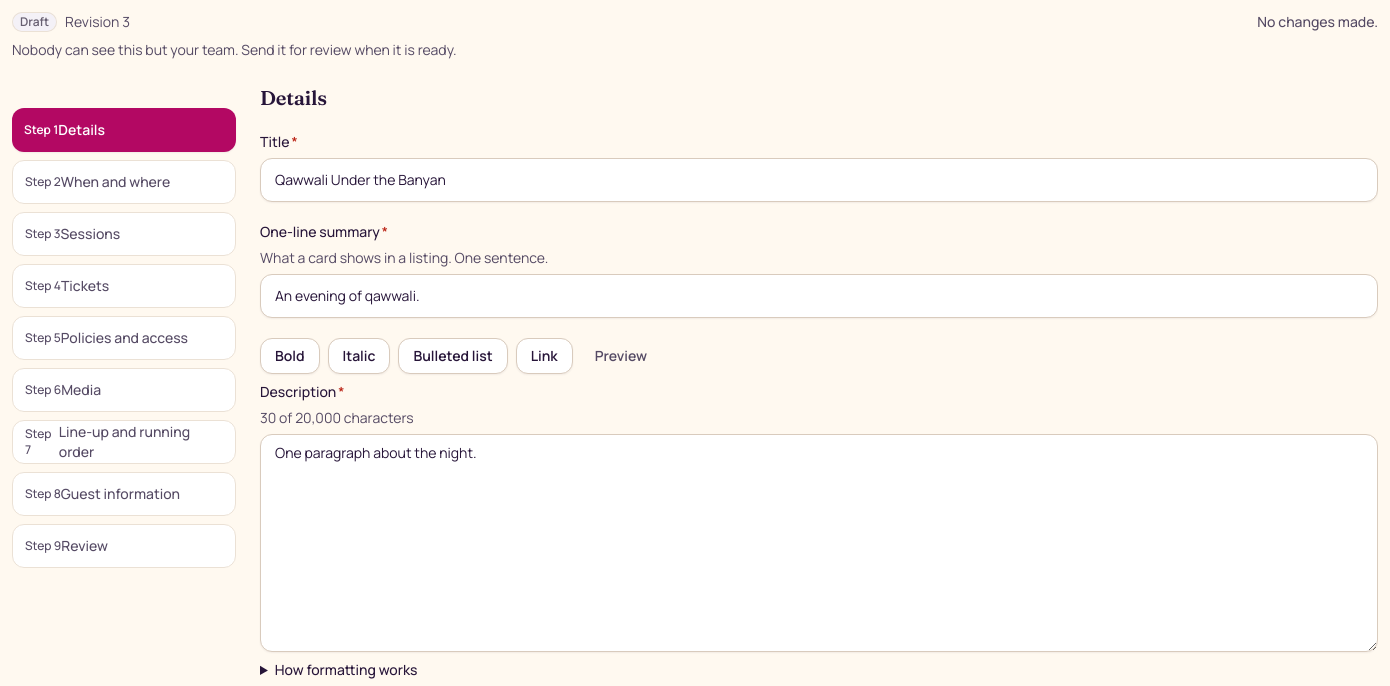
Test: the steps › are real buttons a keyboard can reach
Click the button "Step 2 When and where".
click(124, 182)  # box [12, 160, 236, 204]
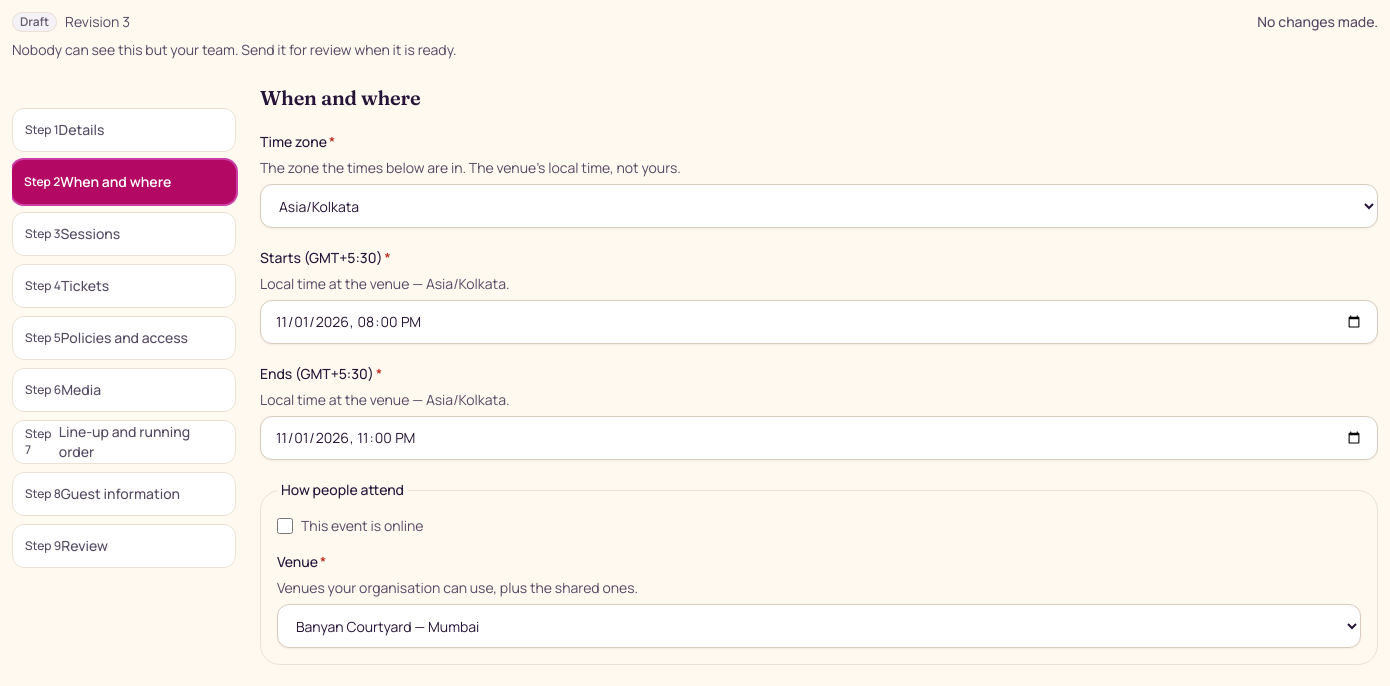
Expected: the heading "When and where" is shown, [260, 85, 420, 110]
